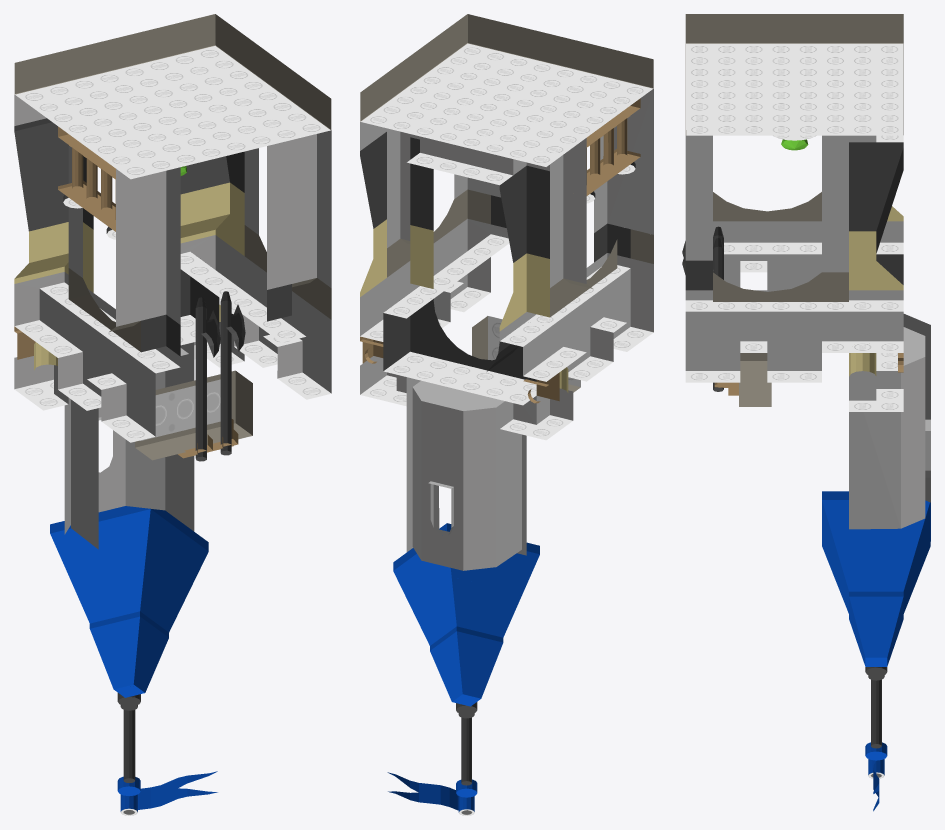
The picture shows the model from 3 angles, left to right: view 1: azimuth 30°, elevation 25°; view 2: azimuth 150°, elevation 25°; view 3: azimuth 270°, elevation 25°; orthographic projection. The views are drawn at different scales.
Visible parts, largest first — view 1: 036_OC6098-6_Part_1, 029_L_420100_Dark_grey, 033_OC6098-6_Part_2.2, 020_OC6098_Part_7, 046_L_3005500_Brown_149, 016_Battle-axe_D13, 018_Battle-axe_D13, 042_OC6098-6_Part_3, 054_L_449500_flag_Blue_765, 051_L_449500_pole_Blue; view 2: 036_OC6098-6_Part_1, 033_OC6098-6_Part_2.2, 029_L_420100_Dark_grey, 042_OC6098-6_Part_3, 046_L_3005500_Brown_149, 020_OC6098_Part_7, 054_L_449500_flag_Blue_765, 051_L_449500_pole_Blue; view 3: 036_OC6098-6_Part_1, 029_L_420100_Dark_grey, 033_OC6098-6_Part_2.2, 020_OC6098_Part_7, 042_OC6098-6_Part_3, 051_L_449500_pole_Blue, 016_Battle-axe_D13.
Part boxes in pixels (bbox=[...]): 036_OC6098-6_Part_1: bbox=[14, 94, 331, 442]; 029_L_420100_Dark_grey: bbox=[14, 14, 331, 179]; 033_OC6098-6_Part_2.2: bbox=[50, 342, 208, 782]; 020_OC6098_Part_7: bbox=[135, 370, 252, 460]; 046_L_3005500_Brown_149: bbox=[58, 126, 115, 239]; 016_Battle-axe_D13: bbox=[220, 291, 245, 455]; 018_Battle-axe_D13: bbox=[195, 297, 220, 461]; 042_OC6098-6_Part_3: bbox=[180, 269, 219, 345]; 054_L_449500_flag_Blue_765: bbox=[139, 771, 217, 809]; 051_L_449500_pole_Blue: bbox=[117, 776, 140, 815]; 036_OC6098-6_Part_1: bbox=[360, 88, 653, 440]; 033_OC6098-6_Part_2.2: bbox=[393, 377, 539, 785]; 029_L_420100_Dark_grey: bbox=[360, 14, 653, 166]; 042_OC6098-6_Part_3: bbox=[383, 299, 536, 405]; 046_L_3005500_Brown_149: bbox=[586, 98, 640, 203]; 020_OC6098_Part_7: bbox=[472, 316, 580, 392]; 054_L_449500_flag_Blue_765: bbox=[387, 772, 457, 810]; 051_L_449500_pole_Blue: bbox=[456, 779, 477, 815]; 036_OC6098-6_Part_1: bbox=[685, 135, 903, 411]; 029_L_420100_Dark_grey: bbox=[685, 14, 903, 135]; 033_OC6098-6_Part_2.2: bbox=[822, 314, 930, 748]; 020_OC6098_Part_7: bbox=[714, 353, 771, 406]; 042_OC6098-6_Part_3: bbox=[876, 254, 903, 370]; 051_L_449500_pole_Blue: bbox=[865, 742, 887, 778]; 016_Battle-axe_D13: bbox=[682, 238, 723, 391].
Bounding box in the file's own units: 6.4 × 23.2 × 7.31.
11 materials, 3 textured.
